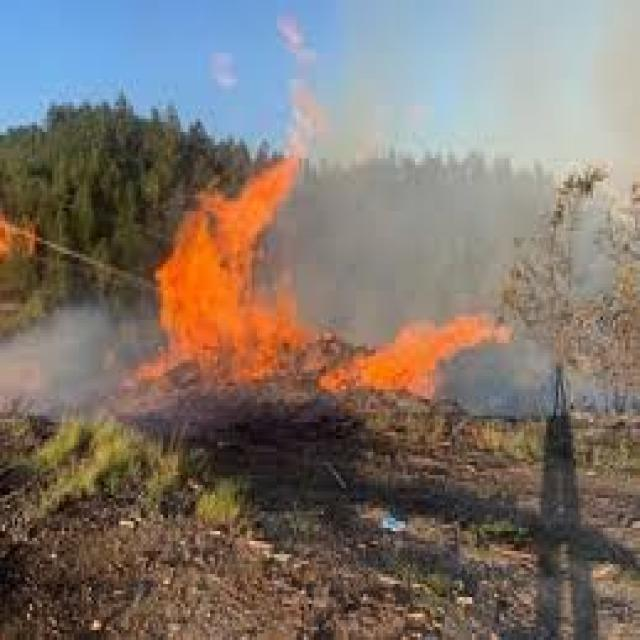Fire: (146, 144, 320, 383), (327, 302, 515, 416)
Smoke: (300, 121, 494, 307)
